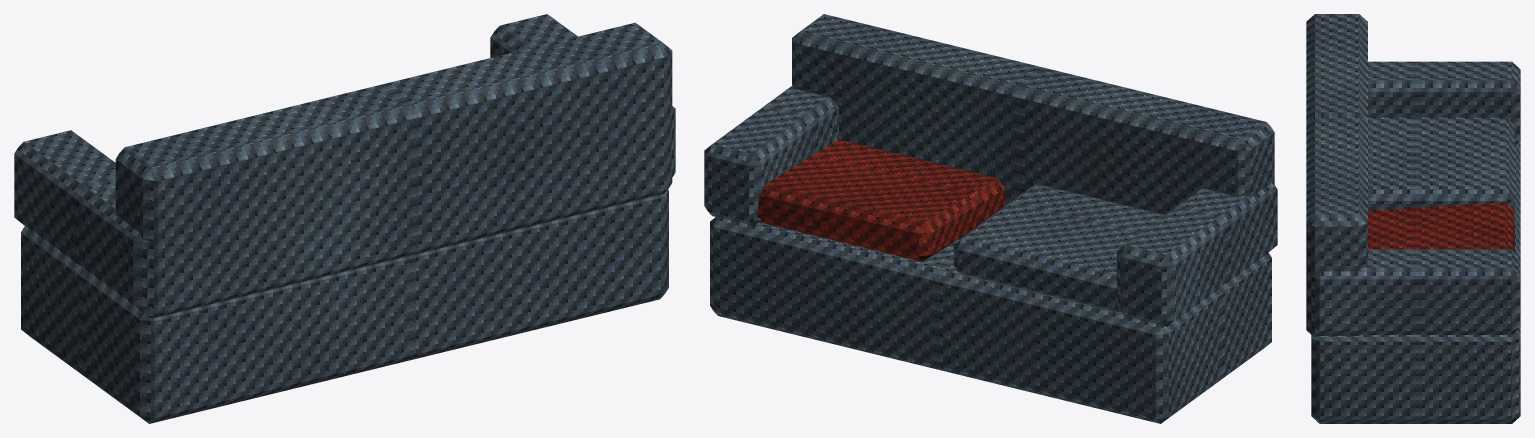
File: int_sofa.glb
3 renders of one model, left to right at view 1: azimuth 30°, elevation 25°; view 2: azimuth 150°, elevation 25°; view 3: azimuth 270°, elevation 25°, orthographic. The views are drawn at different scales.
Parts seen in each view (by area): view 1: int_sofa_mesh; view 2: int_sofa_mesh; view 3: int_sofa_mesh.
Part boxes in pixels (x1=…): int_sofa_mesh: x1=14, y1=14, x2=675, y2=423; int_sofa_mesh: x1=704, y1=14, x2=1277, y2=423; int_sofa_mesh: x1=1306, y1=14, x2=1520, y2=423.
Size of what is drawn, in the model's own units: 2.05 by 0.935 by 0.87.
Materials: 2 (2 with a texture image).
